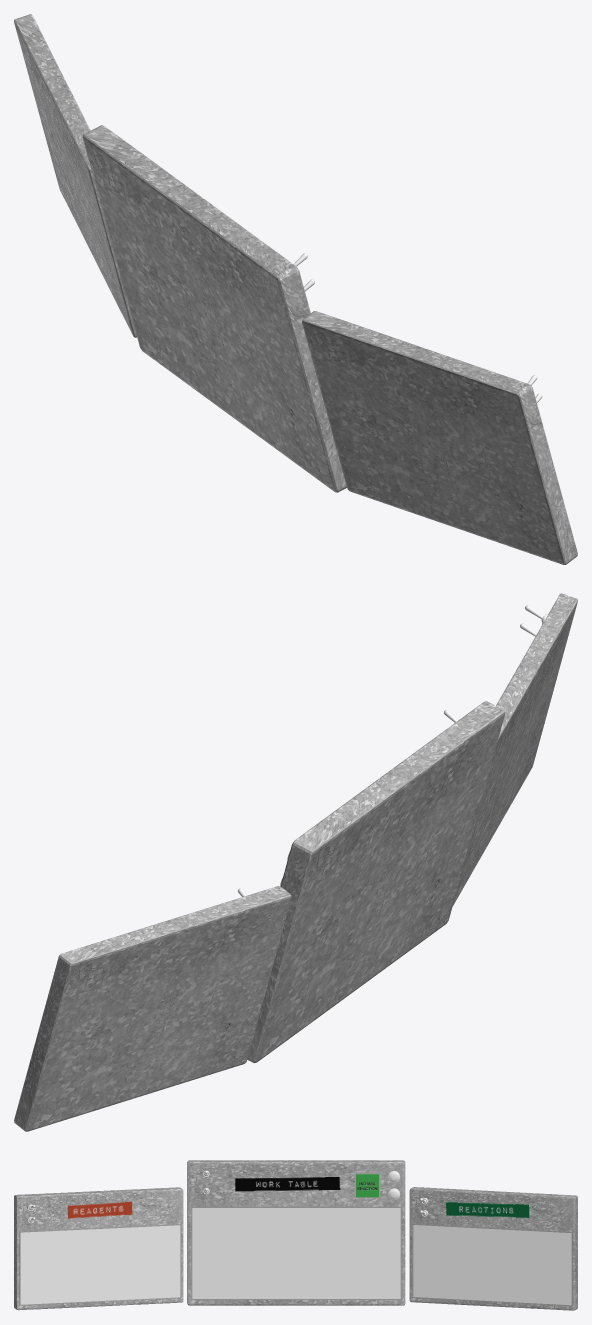
File: chemlab_UI.gltf
The picture shows the model from 3 angles, top to bottom: view 1: azimuth 30°, elevation 25°; view 2: azimuth 150°, elevation 25°; view 3: azimuth 270°, elevation 25°; orthographic projection. The views are drawn at different scales.
Visible parts, largest first — view 1: panel_worktable, panel_reagents, panel_reactions; view 2: panel_worktable, panel_reactions, panel_reagents; view 3: screen_worktable, screen_reagents, screen_reactions, panel_worktable, panel_reagents, panel_reactions, label_worktable, label_reactions, label_reagents, button_initiate, button_initiate_base.
Part boxes in pixels (box(x1,y1,x2,y2)): panel_worktable: box(82, 125, 346, 492); panel_reagents: box(302, 311, 577, 564); panel_reactions: box(14, 14, 136, 337); panel_worktable: box(247, 701, 505, 1062); panel_reactions: box(14, 886, 291, 1131); panel_reagents: box(453, 593, 577, 905); screen_worktable: box(191, 1206, 401, 1299); screen_reagents: box(19, 1224, 181, 1305); screen_reactions: box(412, 1224, 572, 1306); panel_worktable: box(187, 1160, 405, 1305); panel_reagents: box(14, 1187, 183, 1310); panel_reactions: box(409, 1187, 577, 1310); label_worktable: box(235, 1177, 340, 1191); label_reactions: box(446, 1202, 529, 1217); label_reagents: box(67, 1201, 132, 1218); button_initiate: box(356, 1174, 378, 1197); button_initiate_base: box(354, 1172, 380, 1198).
Bounding box in the file's own units: 2.38 × 3.58 × 14.05.
Materials: 13 (5 with a texture image).
